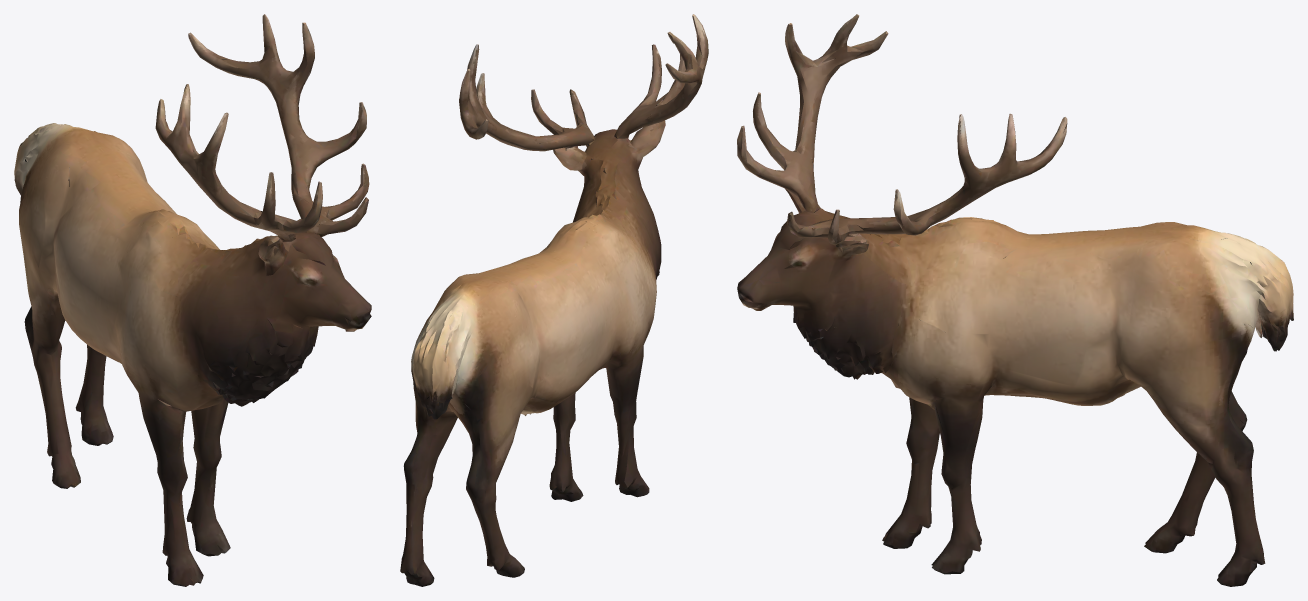
The model's file is elk-bull.glb.
3 views of the same model, side by side, from view 1: azimuth 30°, elevation 25°; view 2: azimuth 150°, elevation 25°; view 3: azimuth 270°, elevation 25° (orthographic). The views are drawn at different scales.
Visible parts, largest first — view 1: elk-bull; view 2: elk-bull; view 3: elk-bull.
Part boxes in pixels (x1=…): elk-bull: x1=14, y1=14, x2=371, y2=586; elk-bull: x1=400, y1=14, x2=708, y2=586; elk-bull: x1=737, y1=14, x2=1293, y2=586.
Size of the model in its own units: 1.65 by 3.6 by 3.5.
Materials: 1 (1 with a texture image).
